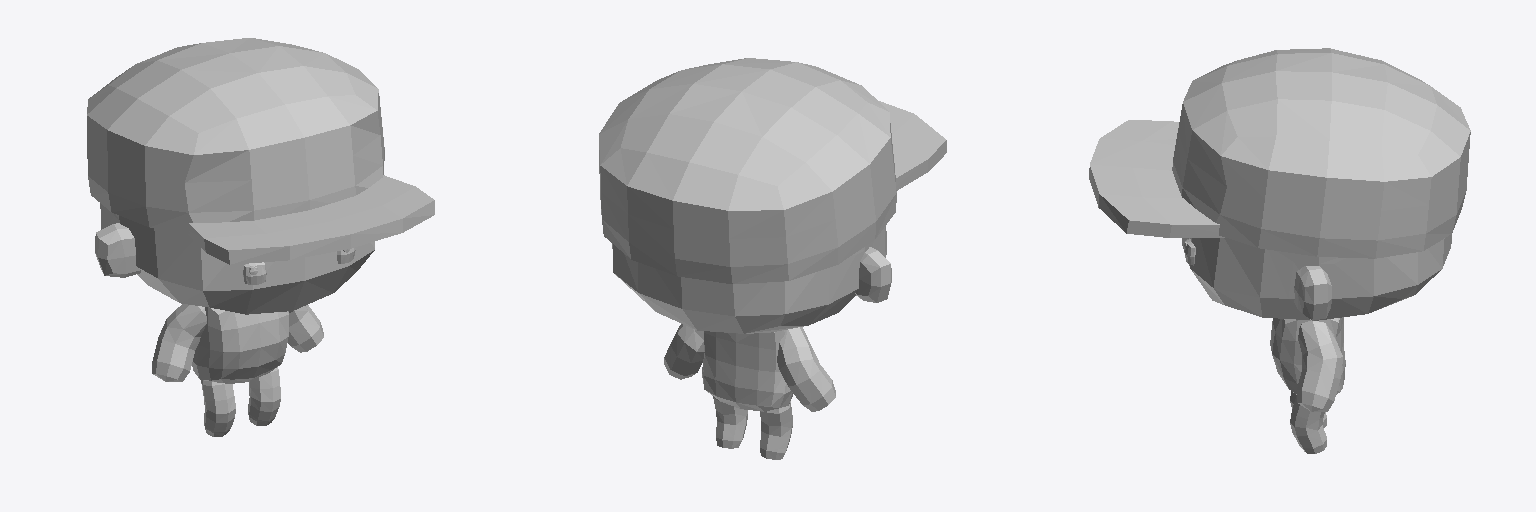
Rendered from idle_0010.obj.
3 renders of one model, left to right at view 1: azimuth 30°, elevation 25°; view 2: azimuth 150°, elevation 25°; view 3: azimuth 270°, elevation 25°, orthographic.
Parts seen in each view (by area): view 1: Object_41, Object_42, Object_36, Object_44, Object_38; view 2: Object_41, Object_44, Object_36, Object_42; view 3: Object_41, Object_36, Object_42, Object_44.
Boxes of the visible parts, x1,y1,x2,y2 form: Object_41: [87, 38, 384, 233]; Object_42: [185, 111, 434, 264]; Object_36: [95, 203, 374, 314]; Object_44: [152, 304, 323, 436]; Object_38: [243, 248, 355, 284]; Object_41: [599, 58, 896, 283]; Object_44: [664, 324, 835, 459]; Object_36: [612, 226, 891, 333]; Object_42: [879, 101, 946, 190]; Object_41: [1183, 48, 1470, 258]; Object_36: [1182, 234, 1451, 320]; Object_42: [1089, 104, 1226, 237]; Object_44: [1270, 317, 1345, 453].
Size of the model in its own units: 0.9691 by 1.22 by 1.14.